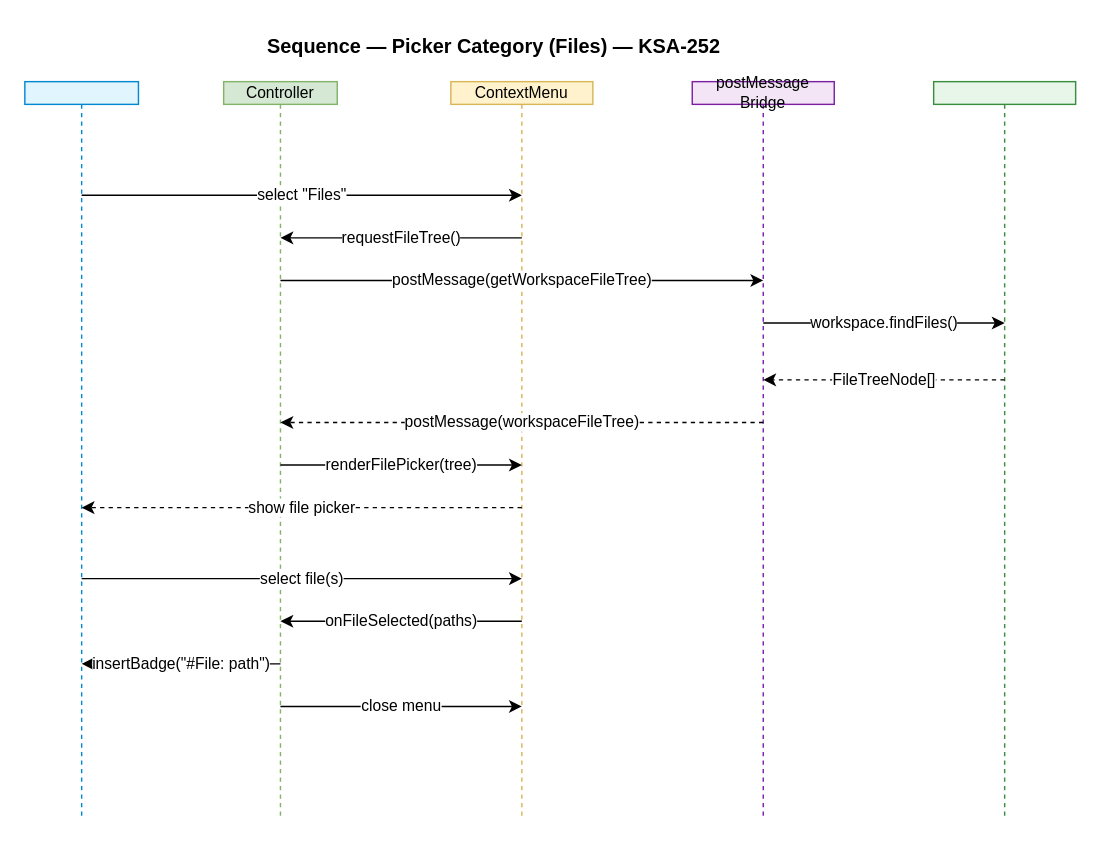
Some shapes in this 1101 by 845 pixel diagram are drawn without their labels. Each missing label, with the box of its shape:
Extension Host: (932, 80, 1076, 820)
User: (23, 80, 138, 820)
